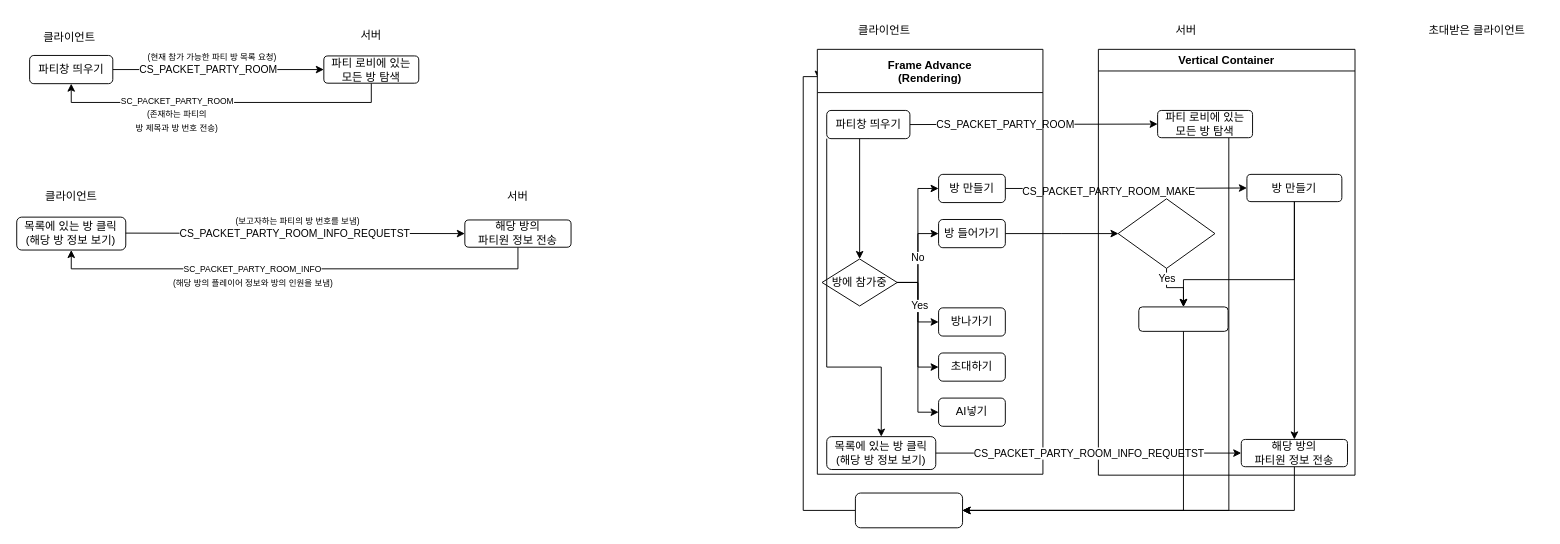
The diagram is 1560 pixels wide and 544 high, and some of its shapes have lost their labels. Here are the shapes that lost their labels. From the top down, the centre of each, then its label:
the point at 1166,233: 해당 방이 4명 미만인가
the point at 1183,318: 방 들어가기 성공
the point at 908,510: 정보를 받는 쓰레드
